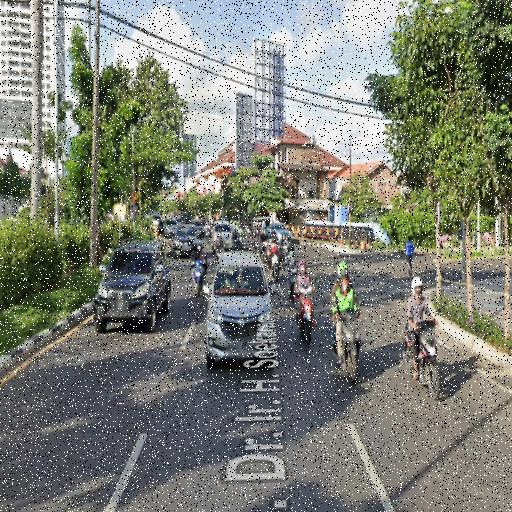Helmet: (412, 276, 423, 294), (338, 262, 348, 277), (299, 261, 306, 267), (197, 244, 202, 251), (289, 245, 294, 252)
Motor: (415, 321, 440, 400), (338, 309, 360, 383), (296, 284, 315, 344), (192, 260, 204, 296), (288, 267, 297, 303), (280, 244, 289, 269), (272, 254, 280, 282), (261, 242, 268, 268), (215, 246, 223, 262), (206, 226, 212, 243), (251, 238, 256, 251)
